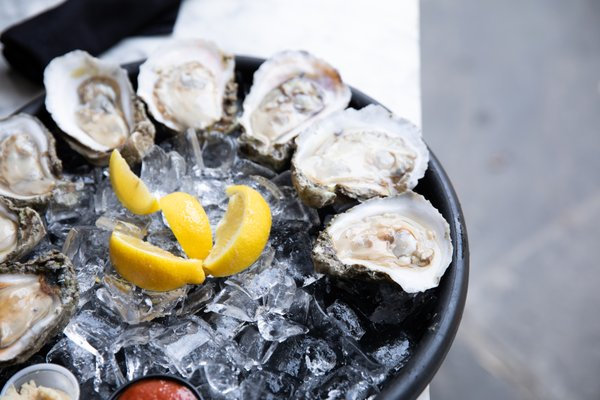pasta: (203, 182, 273, 278), (108, 225, 207, 292), (108, 149, 160, 215)
sushi: (0, 40, 470, 395), (0, 361, 80, 398)
